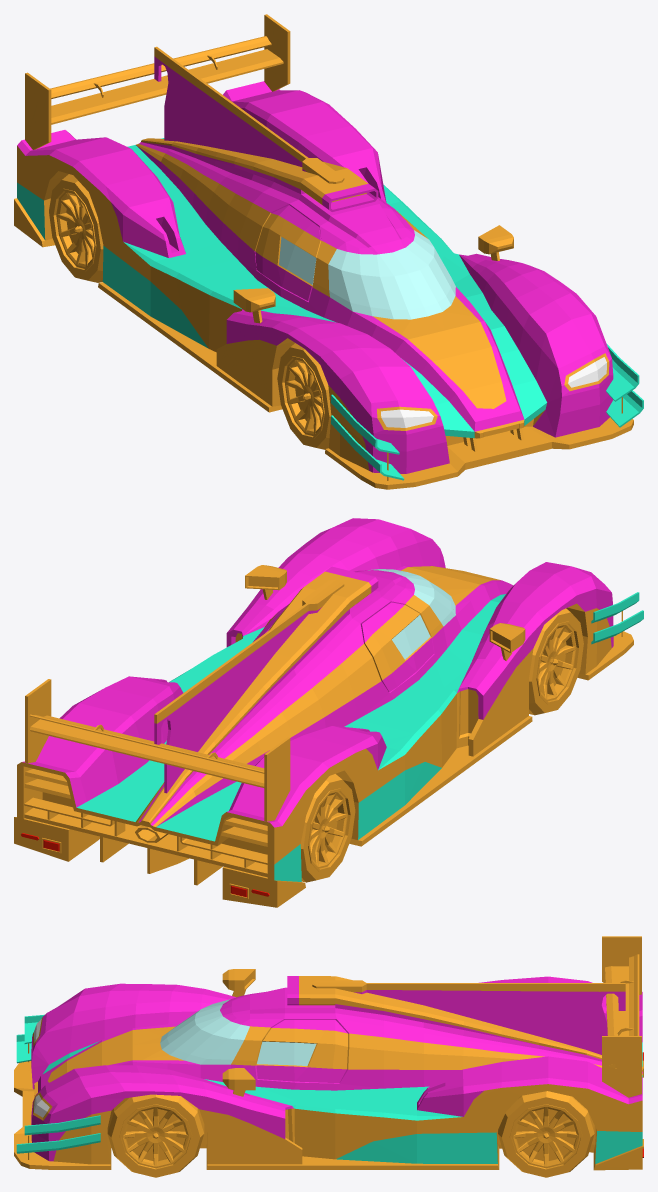
File: SM_Car_LeMans_Prototype_Racing.fbx
3 renders of one model, top to bottom at view 1: azimuth 30°, elevation 25°; view 2: azimuth 150°, elevation 25°; view 3: azimuth 270°, elevation 25°, orthographic. The views are drawn at different scales.
Visible parts, largest first — view 1: SM_Car_LeMans_Prototype_Racing_Base, SM_Car_LeMans_Prototype_Racing_Door_R, SM_Car_LeMans_Prototype_Racing_Wheel_RB, SM_Car_LeMans_Prototype_Racing_Wheel_RF; view 2: SM_Car_LeMans_Prototype_Racing_Base, SM_Car_LeMans_Prototype_Racing_Wheel_RB, SM_Car_LeMans_Prototype_Racing_Wheel_RF, SM_Car_LeMans_Prototype_Racing_Door_R; view 3: SM_Car_LeMans_Prototype_Racing_Base, SM_Car_LeMans_Prototype_Racing_Wheel_LF, SM_Car_LeMans_Prototype_Racing_Wheel_LB, SM_Car_LeMans_Prototype_Racing_Door_L.
Boxes of the visible parts, x1=… form: SM_Car_LeMans_Prototype_Racing_Base: x1=14, y1=14, x2=643, y2=489; SM_Car_LeMans_Prototype_Racing_Door_R: x1=255, y1=205, x2=321, y2=300; SM_Car_LeMans_Prototype_Racing_Wheel_RB: x1=49, y1=174, x2=103, y2=282; SM_Car_LeMans_Prototype_Racing_Wheel_RF: x1=277, y1=343, x2=331, y2=449; SM_Car_LeMans_Prototype_Racing_Base: x1=14, y1=518, x2=643, y2=907; SM_Car_LeMans_Prototype_Racing_Wheel_RB: x1=300, y1=774, x2=355, y2=882; SM_Car_LeMans_Prototype_Racing_Wheel_RF: x1=529, y1=608, x2=583, y2=715; SM_Car_LeMans_Prototype_Racing_Door_R: x1=361, y1=602, x2=433, y2=692; SM_Car_LeMans_Prototype_Racing_Base: x1=14, y1=936, x2=643, y2=1170; SM_Car_LeMans_Prototype_Racing_Wheel_LF: x1=107, y1=1094, x2=204, y2=1177; SM_Car_LeMans_Prototype_Racing_Wheel_LB: x1=498, y1=1091, x2=594, y2=1177; SM_Car_LeMans_Prototype_Racing_Door_L: x1=256, y1=1019, x2=347, y2=1082.
Bounding box in the file's own units: 2.29 × 1.37 × 5.41.
